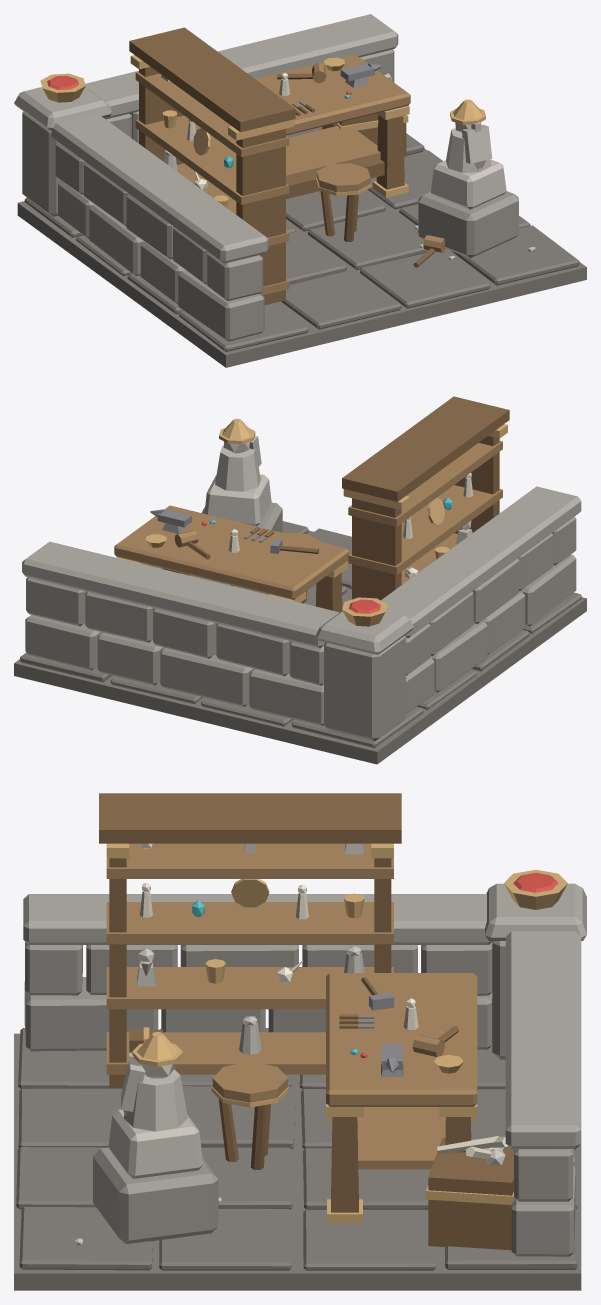
Rendered from craftsdwarf.glb.
3 views of the same model, one above another, from view 1: azimuth 30°, elevation 25°; view 2: azimuth 150°, elevation 25°; view 3: azimuth 270°, elevation 25° (orthographic). The views are drawn at different scales.
Visible parts, largest first — view 1: floor_base, wall_left_cap, shelf_crown, wall_back_cap, table_top, shelf_upright_front, carving_plinth, floor_tile_20, floor_tile_10, floor_tile_21, floor_tile_30, shelf_plank_2 (+32 smaller); view 2: wall_back_cap, table_top, floor_base, wall_left_cap, shelf_crown, corner_pillar, shelf_upright_back, wall_back_block_01, shelf_plank_2, wall_back_block_00, wall_back_block_03, shelf_plank_3 (+32 smaller); view 3: table_top, wall_back_cap, floor_base, shelf_crown, wall_left_cap, shelf_plank_2, shelf_plank_3, carving_plinth, shelf_plank_1, crate, floor_tile_32, floor_tile_30 (+41 smaller).
Boxes of the visible parts, left/top/right/bottom form: floor_base: left=17, top=148, right=586, bottom=367; wall_left_cap: left=51, top=113, right=268, bottom=263; shelf_crown: left=129, top=27, right=295, bottom=132; wall_back_cap: left=85, top=14, right=398, bottom=119; table_top: left=255, top=54, right=410, bottom=135; shelf_upright_front: left=236, top=128, right=285, bottom=305; carving_plinth: left=418, top=191, right=518, bottom=258; floor_tile_20: left=360, top=250, right=490, bottom=308; floor_tile_10: left=281, top=269, right=401, bottom=329; floor_tile_21: left=308, top=210, right=428, bottom=269; floor_tile_30: left=451, top=225, right=579, bottom=285; shelf_plank_2: left=135, top=115, right=289, bottom=204; wall_back_cap: left=22, top=541, right=339, bottom=648; table_top: left=114, top=505, right=348, bottom=599; floor_base: left=14, top=530, right=586, bottom=764; wall_left_cap: left=381, top=486, right=581, bottom=638; shelf_crown: left=342, top=396, right=509, bottom=501; corner_pillar: left=324, top=635, right=405, bottom=741; shelf_upright_back: left=352, top=498, right=401, bottom=600; wall_back_block_01: left=160, top=648, right=255, bottom=706; shelf_plank_2: left=348, top=485, right=502, bottom=574; wall_back_block_00: left=249, top=669, right=323, bottom=725; wall_back_block_03: left=25, top=615, right=102, bottom=670; shelf_plank_3: left=348, top=441, right=502, bottom=526; table_top: left=326, top=973, right=477, bottom=1106; wall_back_cap: left=505, top=931, right=581, bottom=1148; floor_base: left=14, top=1033, right=581, bottom=1290; shelf_crown: left=99, top=793, right=401, bottom=843; wall_left_cap: left=23, top=894, right=492, bottom=944; shelf_plank_2: left=106, top=902, right=393, bottom=944; shelf_plank_3: left=106, top=843, right=393, bottom=878; carving_plinth: left=93, top=1147, right=218, bottom=1243; shelf_plank_1: left=106, top=967, right=393, bottom=1009; crate: left=428, top=1136, right=513, bottom=1250; floor_tile_32: left=303, top=1209, right=435, bottom=1270; floor_tile_30: left=19, top=1207, right=152, bottom=1270.
Size of what is drawn, in the model's own units: 3.03 by 1.68 by 3.03.
